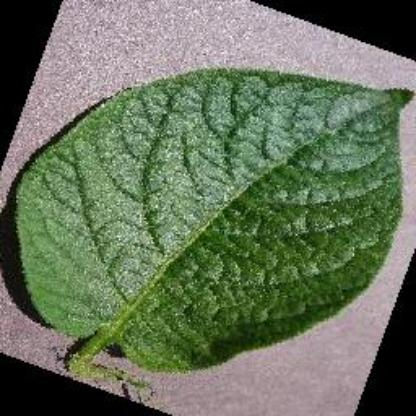Healthy-plant: (9, 19, 409, 398)
